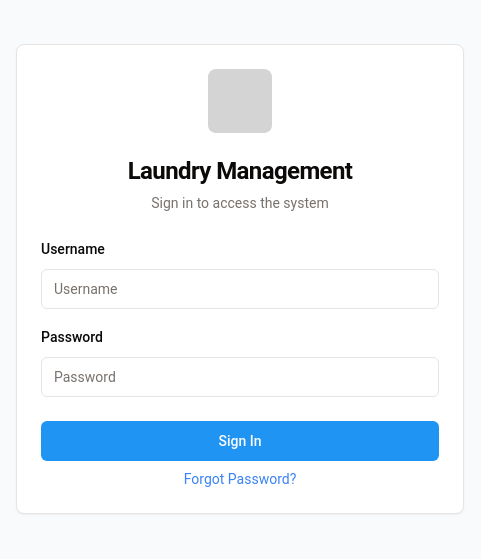
LoginForm › shows errors for empty fields
Click the button "Sign In" at (240, 441), box [41,421,439,461]
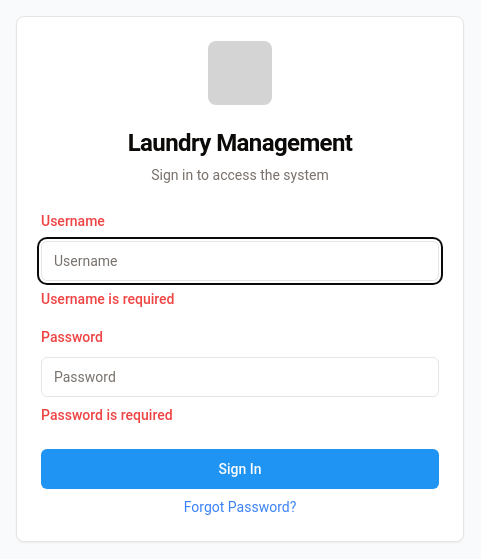
Expected: the text "Username is required" is shown, [41,291,174,307]
Expected: the text "Password is required" is shown, [41,407,173,423]
